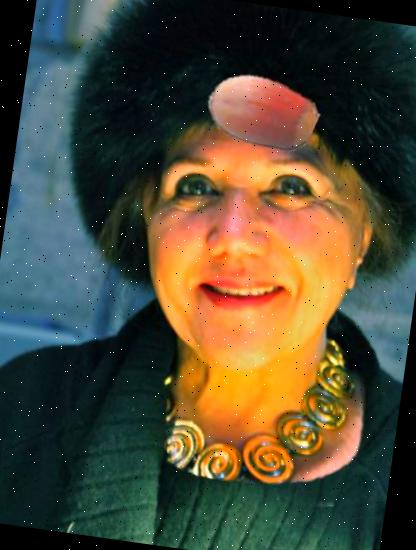Hazelnut: (197, 48, 325, 176)
